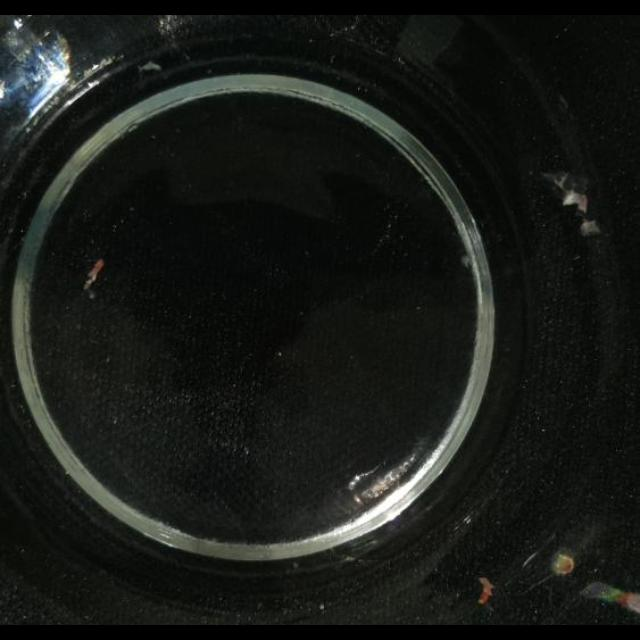Fragment: (542, 155, 606, 245), (83, 258, 105, 292)
microbeads: (477, 570, 498, 606)
